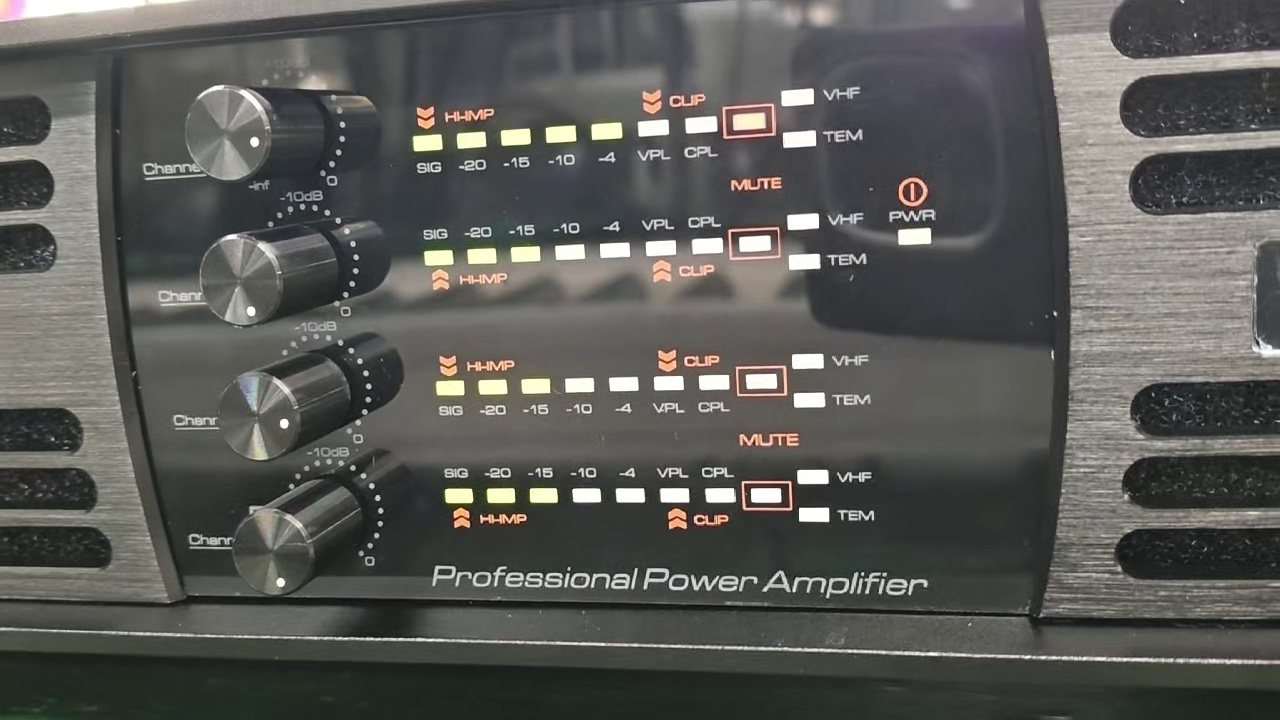FP_CPL: (682, 110, 721, 170), (699, 460, 739, 511), (686, 212, 726, 262), (695, 368, 734, 419)
FP_PWR: (881, 205, 943, 248)
FP_PWR_area: (882, 167, 942, 257)
FP_SIG_area: (408, 77, 868, 178), (411, 205, 870, 290), (435, 454, 882, 538), (429, 346, 878, 419)
FP_VPL: (633, 115, 675, 170), (653, 459, 696, 508), (638, 211, 679, 260), (649, 371, 689, 418)
